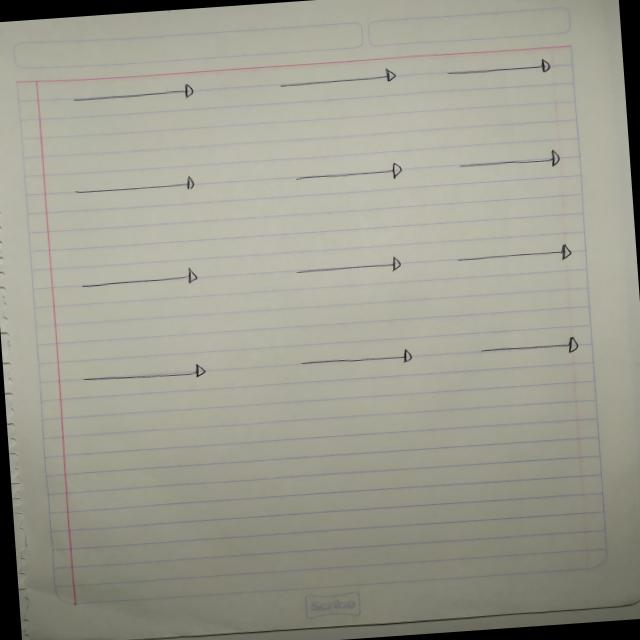arrow_line_right: (57, 168, 206, 214), (74, 356, 222, 394), (63, 76, 209, 114), (279, 156, 411, 198), (446, 146, 577, 188), (266, 61, 408, 99), (284, 248, 413, 288), (472, 327, 592, 368), (288, 341, 421, 377), (67, 262, 212, 295), (446, 236, 578, 272), (436, 52, 558, 86)
